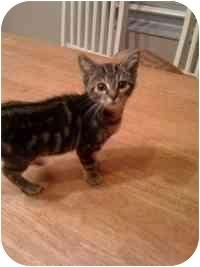bengal: (74, 50, 148, 116)
